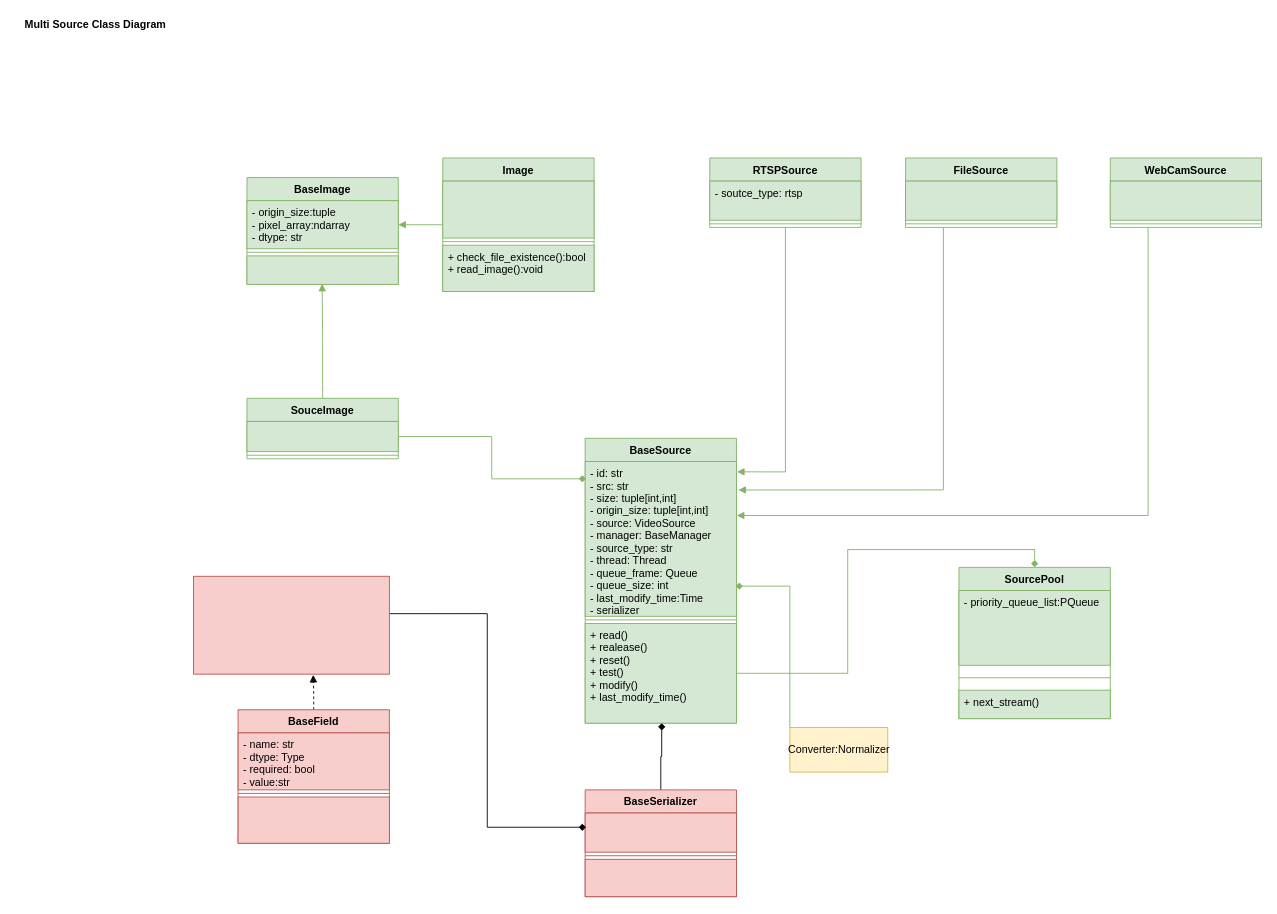
The diagram is 1277 pixels wide and 914 high, and some of its shapes have lost their labels. The centre of each missing label's shape, as x and y in pixels:
"+ get_pixel():ndarray" belongs at [322,269].
"+ validate():bool + cleaned_data" belongs at [660,877].
"+ validate():bool + cleaned_data()" belongs at [313,819].
"- fields: List[Field] - name: str" belongs at [660,832].
"- output_size: tuple - file_path - in_memory:bool" belongs at [518,209].
"- soutce_type: file" belongs at [981,200].
"- soutce_type: webCam" belongs at [1185,200].
"- time_stamp:TimeStamp" belongs at [322,436].
"<<Interface>> Field Interface + validate():bool + cleaned_data()" belongs at [291,624].
